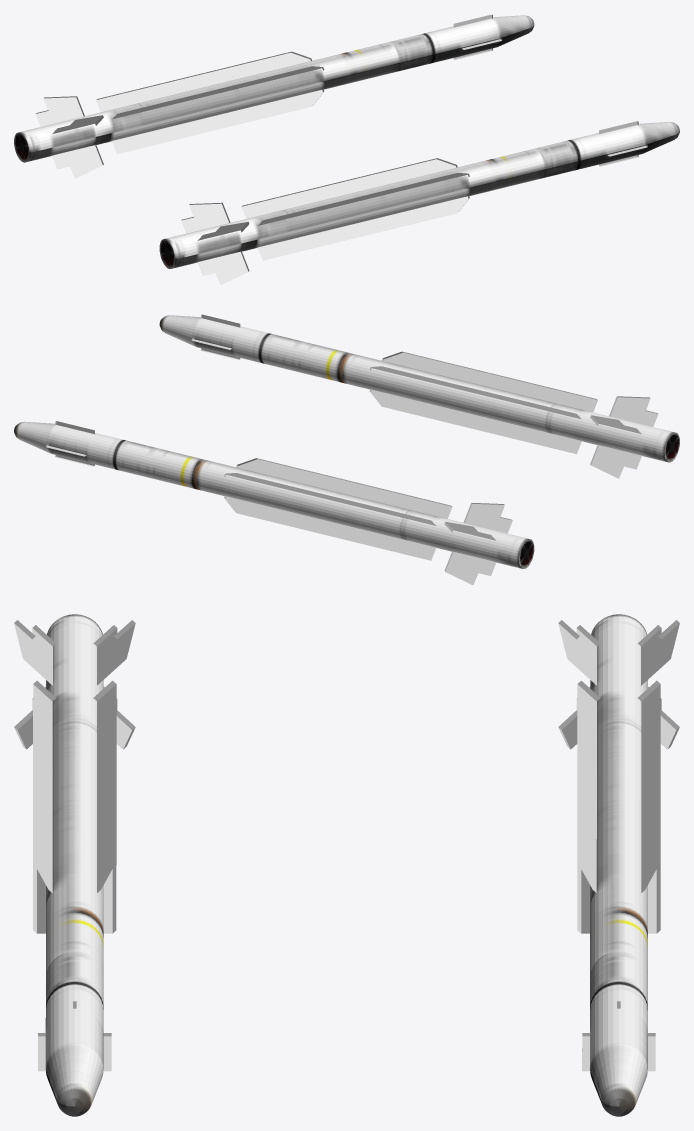
Rendered from m205micair25.glb.
The picture shows the model from 3 angles, top to bottom: view 1: azimuth 30°, elevation 25°; view 2: azimuth 150°, elevation 25°; view 3: azimuth 270°, elevation 25°; orthographic projection. The views are drawn at different scales.
Parts seen in each view (by area): view 1: 円柱.004, 円柱.002; view 2: 円柱.002, 円柱.004; view 3: 円柱.004, 円柱.002.
Boxes of the visible parts, <box> form: 円柱.004: <box>159,121,679,285</box>; 円柱.002: <box>14,14,534,178</box>; 円柱.002: <box>14,421,534,585</box>; 円柱.004: <box>159,314,679,478</box>; 円柱.004: <box>14,614,135,1116</box>; 円柱.002: <box>558,614,679,1116</box>.
Size of the model in its own units: 3.55 by 0.3915 by 2.14.
1 material, 1 textured.
